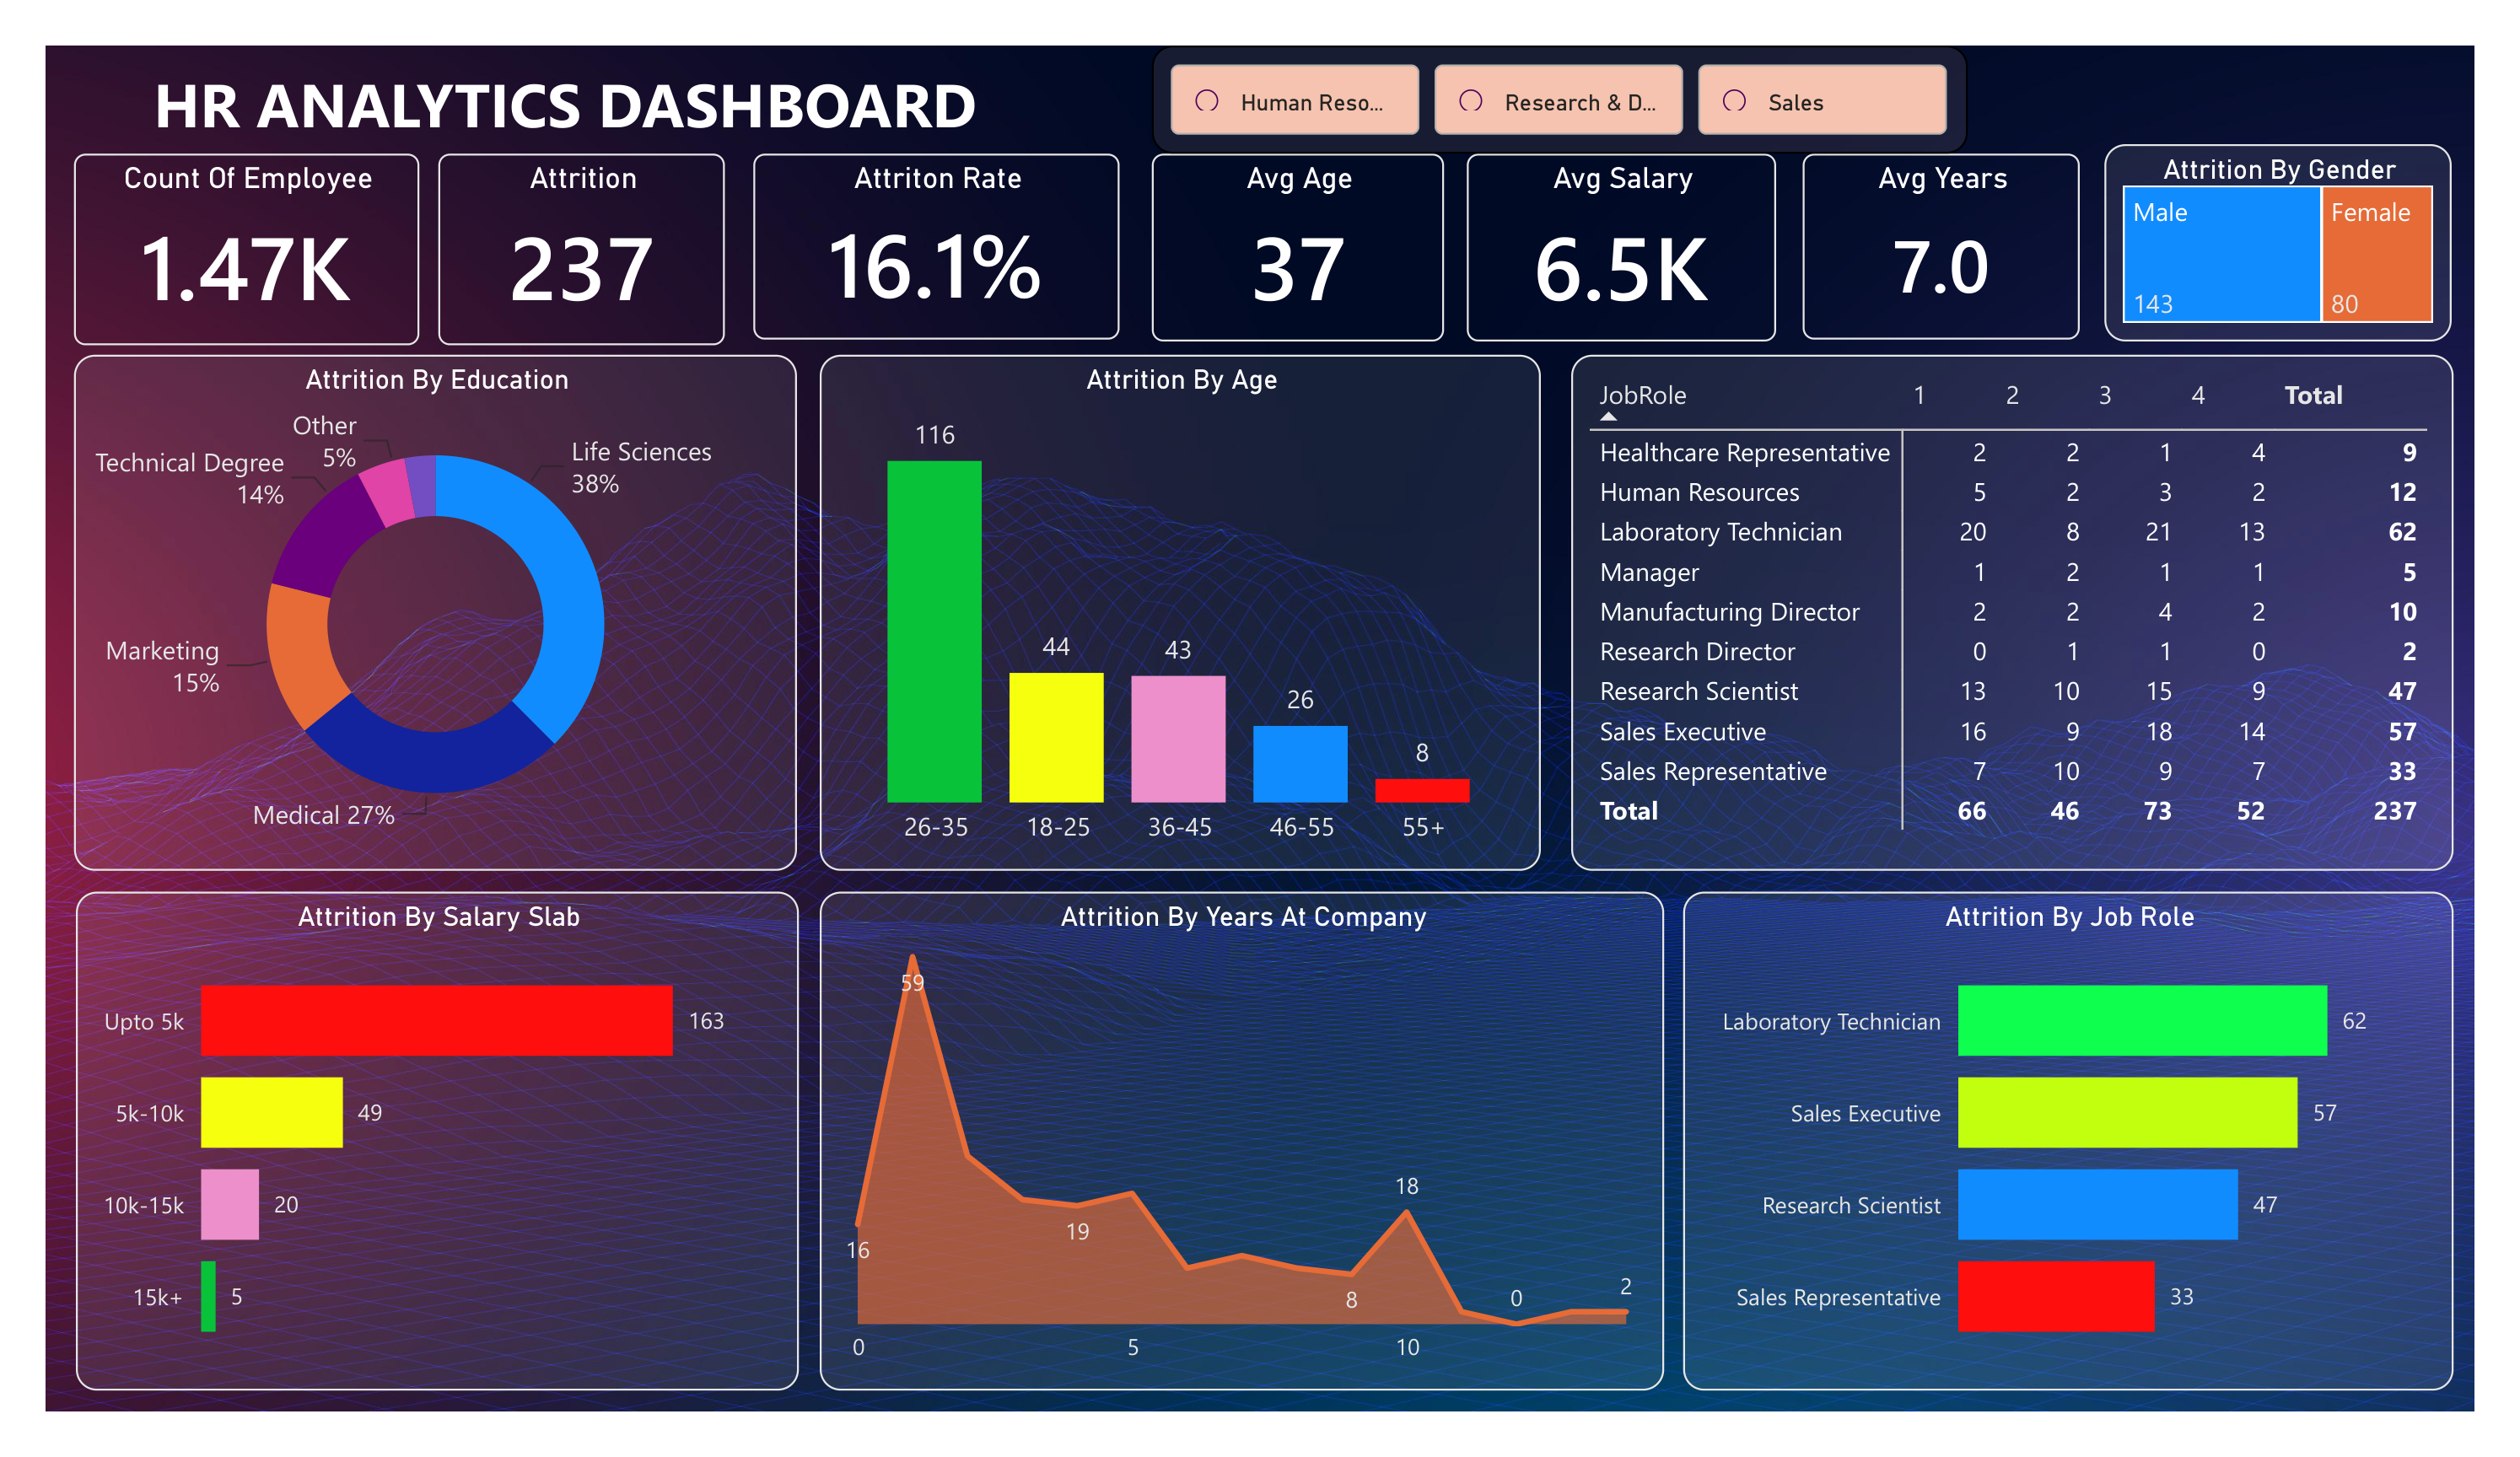

Layout of this report page (visuals, bound fields, positions):
{"tool":"powerbi","page":{"name":"Page 1","canvas":[1280,720],"ordinal":0},"visuals":[{"type":"cardVisual","title":"Count Of Employee","fields":{"Data":["CountNonNull(HR_Analytics.EmpID)"]},"box":[15.1,57.1,181.4,100.8],"z":0},{"type":"cardVisual","title":"Attrition","fields":{"Data":["Sum(HR_Analytics.AttritionCount)"]},"box":[206.6,57.1,151.2,100.8],"z":1},{"type":"cardVisual","title":"Attriton Rate","fields":{"Data":["HR_Analytics.AttritionRate"]},"box":[372.9,57.1,193.2,97.4],"z":2},{"type":"cardVisual","title":"Avg Age","fields":{"Data":["Avg(HR_Analytics.Age)"]},"box":[582.9,57.1,154.5,99.1],"z":3},{"type":"cardVisual","title":"Avg Salary","fields":{"Data":["Avg(HR_Analytics.MonthlyIncome)"]},"box":[749.2,57.1,162.9,99.1],"z":4},{"type":"cardVisual","title":"Avg Years","fields":{"Data":["Avg(HR_Analytics.YearsAtCompany)"]},"box":[925.6,57.1,146.1,97.4],"z":5},{"type":"donutChart","title":"Attrition By Education","fields":{"Category":["HR_Analytics.EducationField"],"Y":["Sum(HR_Analytics.AttritionCount)"]},"box":[15.1,162.9,381.3,272.1],"z":6},{"type":"pivotTable","fields":{"Columns":["HR_Analytics.JobSatisfaction"],"Rows":["HR_Analytics.JobRole"],"Values":["Sum(HR_Analytics.AttritionCount)"]},"box":[803.6,163,464.9,272.1],"z":8},{"type":"columnChart","title":"Attrition By Age","fields":{"Category":["HR_Analytics.AgeGroup"],"Y":["Sum(HR_Analytics.AttritionCount)"]},"box":[408.2,162.9,379.6,272.1],"z":9},{"type":"barChart","title":"Attrition By Salary Slab","fields":{"Category":["HR_Analytics.SalarySlab"],"Y":["Sum(HR_Analytics.AttritionCount)"]},"box":[15.6,446.5,381.3,262.2],"z":10},{"type":"barChart","title":"Attrition By Job Role","fields":{"Category":["HR_Analytics.JobRole"],"Y":["Sum(HR_Analytics.AttritionCount)"]},"box":[863.1,446.5,405.4,262.2],"z":11},{"type":"areaChart","title":"Attrition By Years At Company","fields":{"Category":["HR_Analytics.YearsAtCompany"],"Y":["Sum(HR_Analytics.AttritionCount)"]},"box":[408.2,446.5,445,262.2],"z":12},{"type":"treemap","title":"Attrition By Gender","fields":{"Group":["HR_Analytics.Gender"],"Values":["Sum(HR_Analytics.AttritionCount)"]},"box":[1085.1,52.1,183.1,104.1],"z":13},{"type":"advancedSlicerVisual","fields":{"Values":["HR_Analytics.Department"]},"box":[582.9,0,430,57.1],"z":14},{"type":"textbox","box":[52.4,2.8,481.9,53.9],"z":15}]}

Visuals, with their boxes in screenshot pixels (x1, y1, x2, y2), scaled from the page's 1280x720 canvas onto the 2520x1457 screenshot:
"Count Of Employee" cardVisual: (30,116,387,320)
"Attrition" cardVisual: (407,116,704,320)
"Attriton Rate" cardVisual: (734,116,1114,313)
"Avg Age" cardVisual: (1148,116,1451,316)
"Avg Salary" cardVisual: (1475,116,1796,316)
"Avg Years" cardVisual: (1823,116,2110,313)
"Attrition By Education" donutChart: (30,330,780,880)
pivotTable - HR_Analytics.JobSatisfaction x HR_Analytics.JobRole: (1582,330,2497,880)
"Attrition By Age" columnChart: (804,330,1551,880)
"Attrition By Salary Slab" barChart: (30,904,782,1434)
"Attrition By Job Role" barChart: (1699,904,2497,1434)
"Attrition By Years At Company" areaChart: (804,904,1680,1434)
"Attrition By Gender" treemap: (2136,105,2496,316)
advancedSlicerVisual - HR_Analytics.Department: (1148,0,1994,116)
textbox: (103,6,1052,115)
